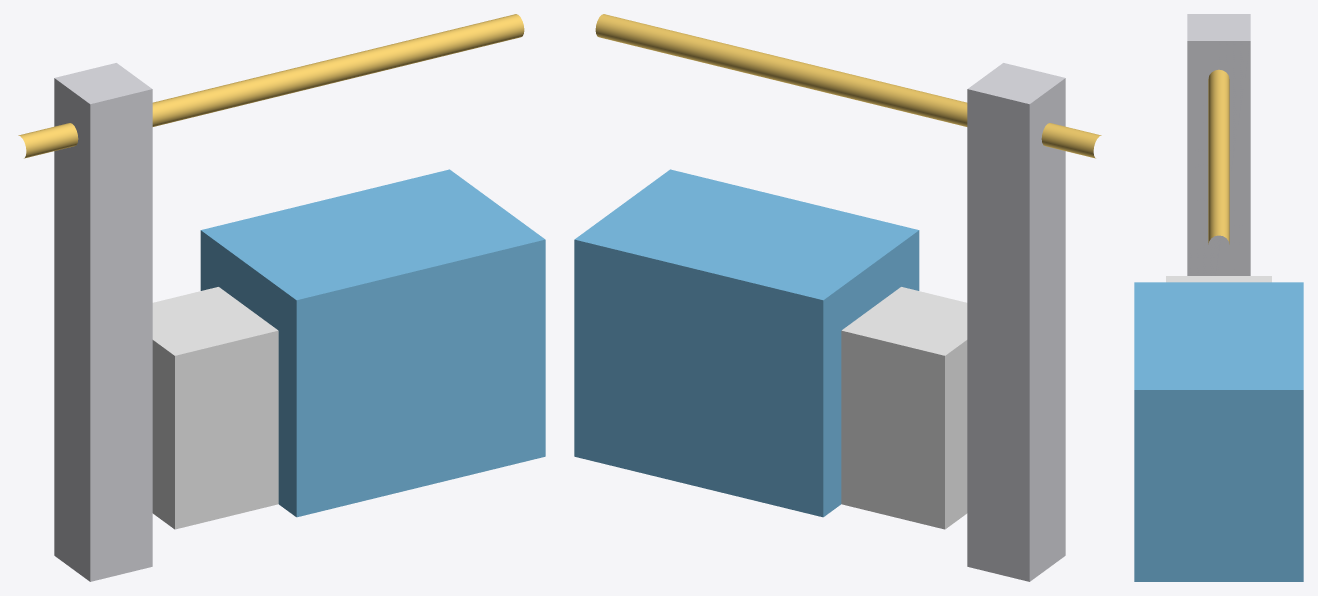
The model's file is electrical_cad_drawing.glb.
3 views of the same model, side by side, from view 1: azimuth 30°, elevation 25°; view 2: azimuth 150°, elevation 25°; view 3: azimuth 270°, elevation 25° (orthographic). The views are drawn at different scales.
Visible parts, largest first — view 1: StepDownTransformer33kV, SubstationGantryTower, VacuumCircuitBreakerUnit, BusbarConductorRail; view 2: StepDownTransformer33kV, SubstationGantryTower, VacuumCircuitBreakerUnit, BusbarConductorRail; view 3: StepDownTransformer33kV, SubstationGantryTower, BusbarConductorRail, VacuumCircuitBreakerUnit.
Part boxes in pixels (bbox=[...]): StepDownTransformer33kV: bbox=[200, 169, 545, 517]; SubstationGantryTower: bbox=[54, 63, 152, 581]; VacuumCircuitBreakerUnit: bbox=[152, 287, 278, 529]; BusbarConductorRail: bbox=[18, 14, 524, 158]; StepDownTransformer33kV: bbox=[574, 169, 919, 517]; SubstationGantryTower: bbox=[967, 63, 1065, 581]; VacuumCircuitBreakerUnit: bbox=[841, 287, 967, 529]; BusbarConductorRail: bbox=[595, 14, 1101, 158]; StepDownTransformer33kV: bbox=[1134, 282, 1303, 581]; SubstationGantryTower: bbox=[1187, 14, 1250, 275]; BusbarConductorRail: bbox=[1208, 69, 1229, 244]; VacuumCircuitBreakerUnit: bbox=[1166, 276, 1271, 282].
Bounding box in the file's own units: 2.4 × 2.2 × 0.8.
